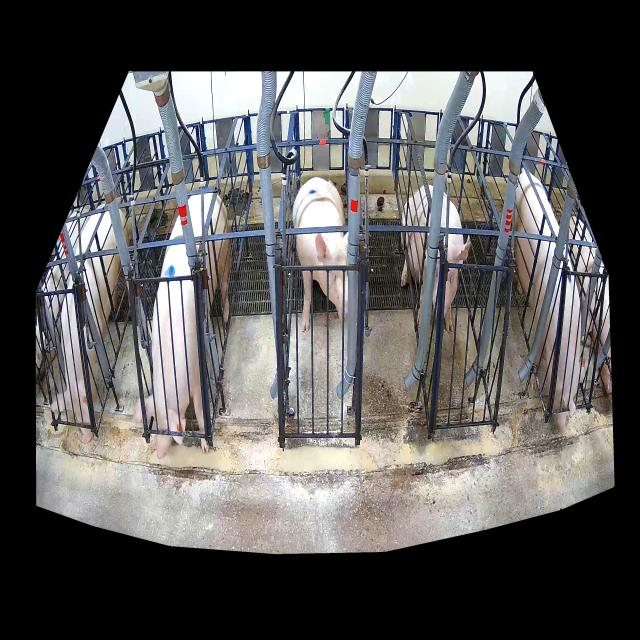pig: (132, 193, 229, 459), (515, 172, 588, 433), (50, 209, 130, 443), (401, 185, 470, 332), (293, 177, 348, 332)
